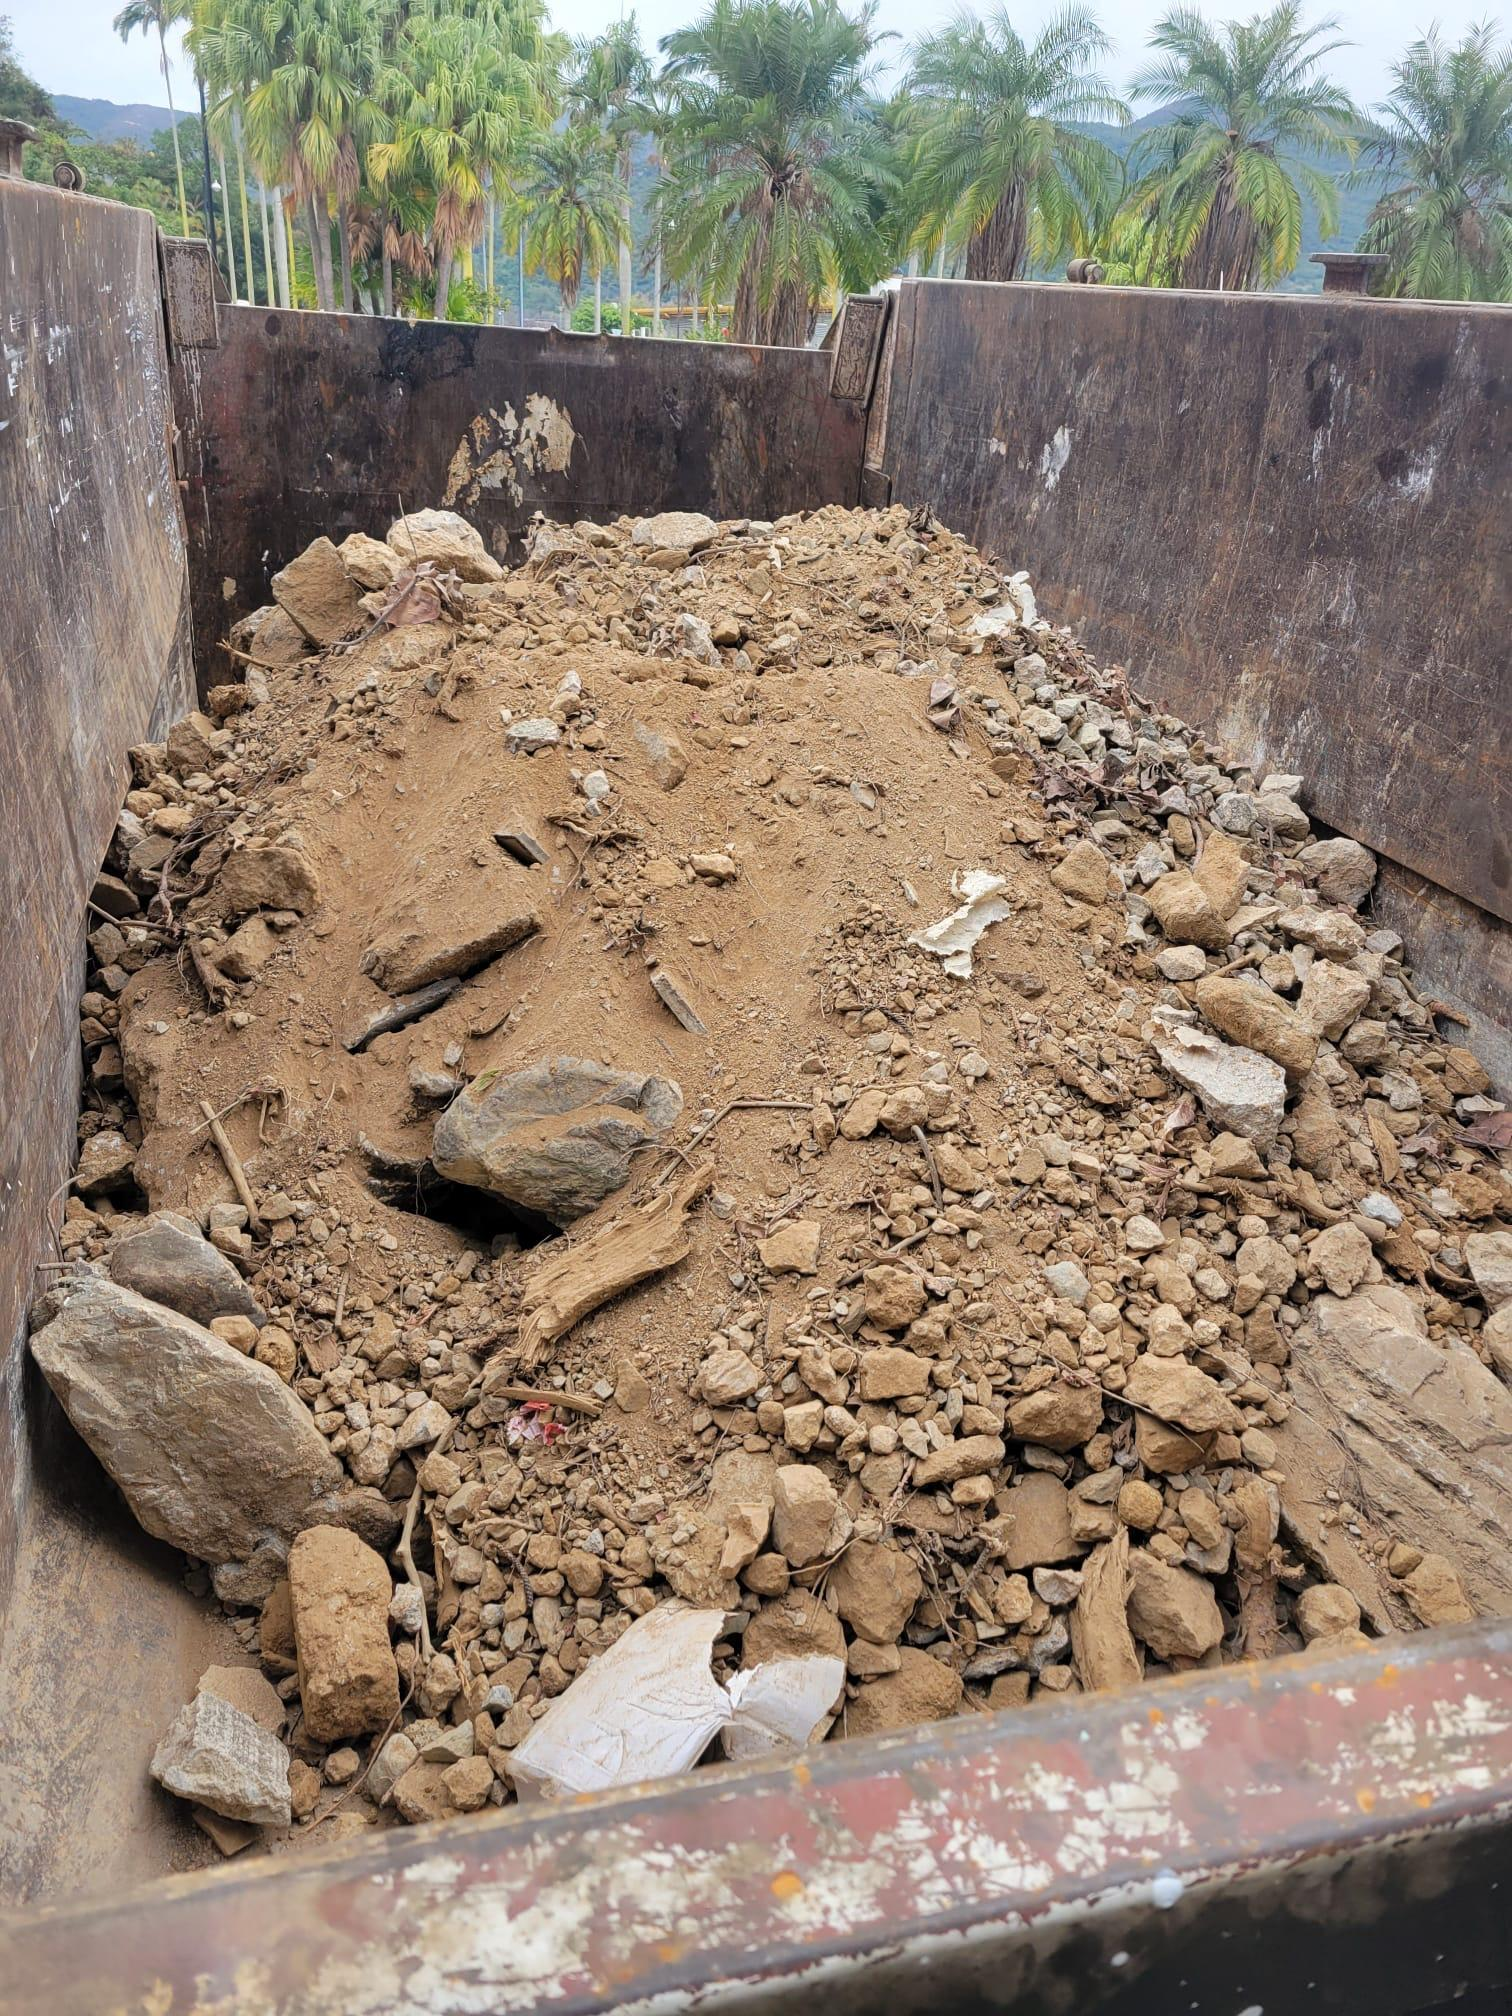dirt: (17, 494, 1509, 1941)
stone: (26, 1271, 347, 1569), (507, 1597, 731, 1802), (429, 1053, 683, 1221), (285, 1522, 401, 1744), (149, 1686, 294, 1827), (1152, 1023, 1287, 1139)
